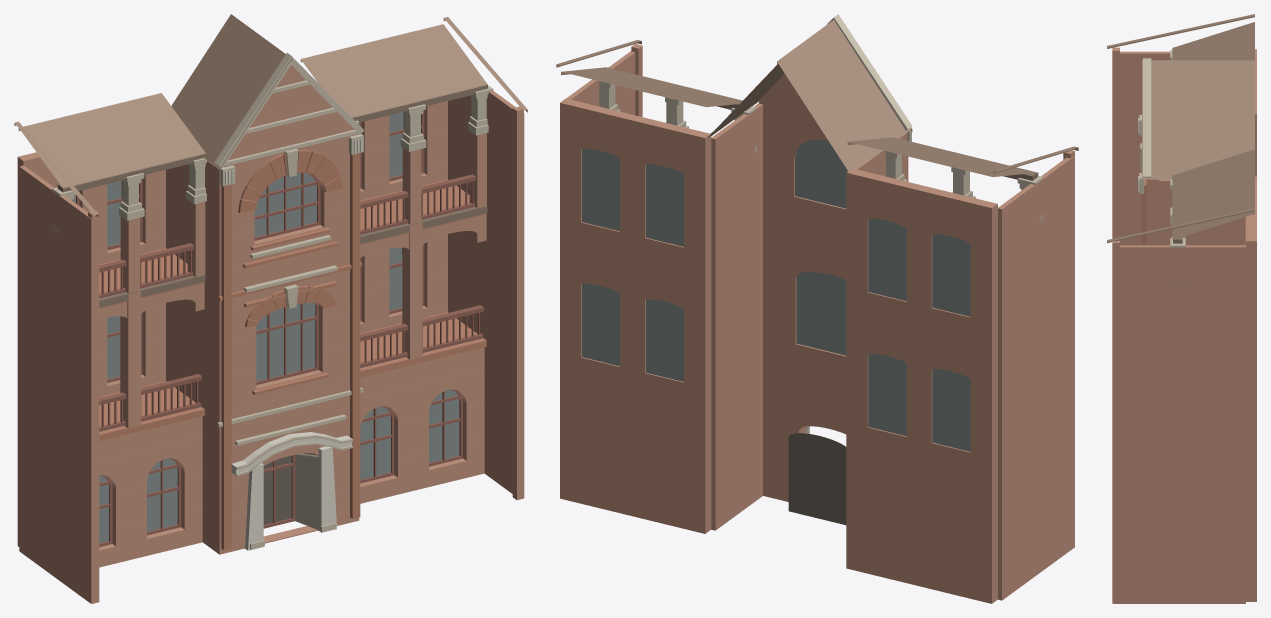
Rendered from jingan-gordon-road-station-south-front-lod.glb.
3 renders of one model, left to right at view 1: azimuth 30°, elevation 25°; view 2: azimuth 150°, elevation 25°; view 3: azimuth 270°, elevation 25°, orthographic. The views are drawn at different scales.
Parts seen in each view (by area): view 1: 戈登路巡捕房南院面中央山墙与柱廊; view 2: 戈登路巡捕房南院面中央山墙与柱廊; view 3: 戈登路巡捕房南院面中央山墙与柱廊.
Part boxes in pixels (x1=…): 戈登路巡捕房南院面中央山墙与柱廊: x1=14, y1=14, x2=527, y2=603; 戈登路巡捕房南院面中央山墙与柱廊: x1=556, y1=14, x2=1078, y2=603; 戈登路巡捕房南院面中央山墙与柱廊: x1=1107, y1=14, x2=1256, y2=603.
Size of the model in its own units: 14.5 by 15.44 by 4.68.
